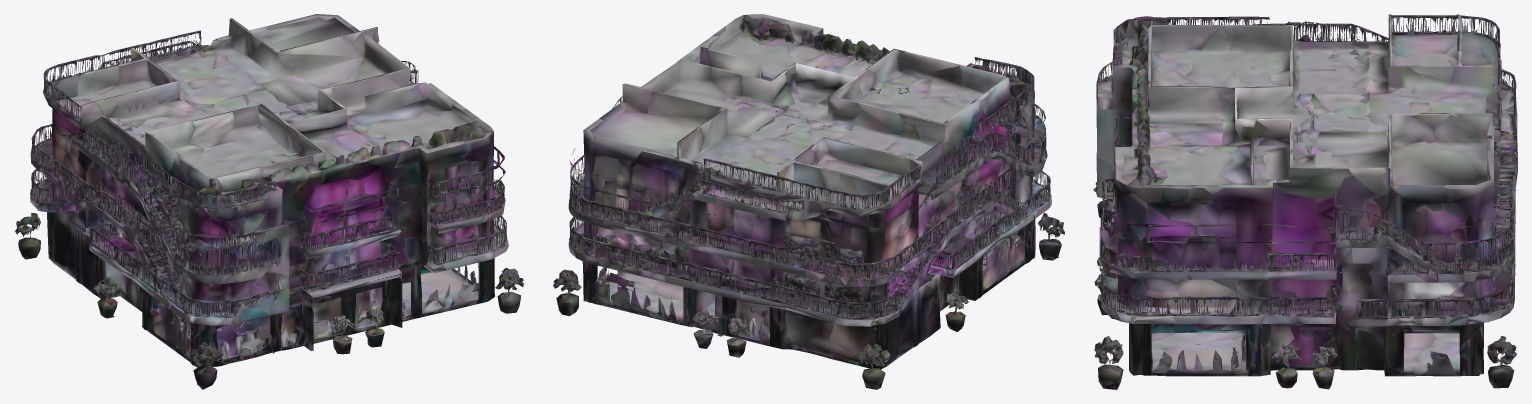
Rendered from b3_terrace_block_lod2.glb.
The picture shows the model from 3 angles, left to right: view 1: azimuth 30°, elevation 25°; view 2: azimuth 150°, elevation 25°; view 3: azimuth 270°, elevation 25°; orthographic projection. The views are drawn at different scales.
Size of the model in its own units: 1.9 by 1.06 by 1.9.
Materials: 1 (1 with a texture image).
